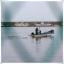fishing boat: (27, 27, 57, 39), (12, 18, 31, 27), (34, 18, 52, 27)
